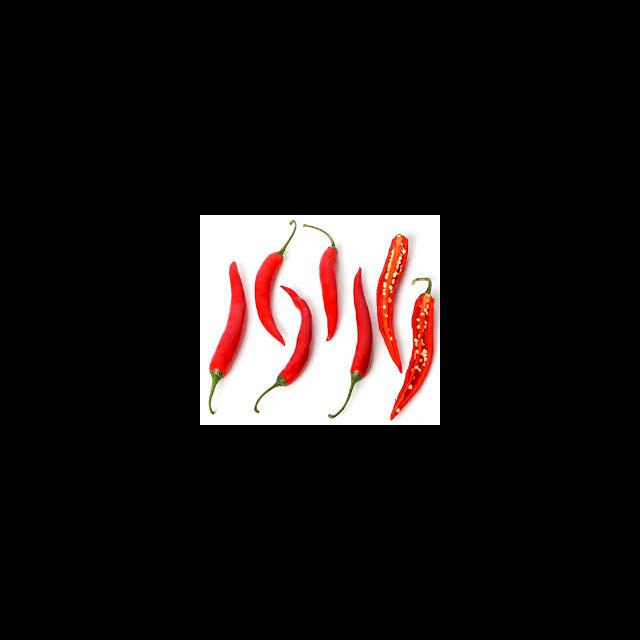chili_pepper: (256, 285, 314, 415), (389, 289, 436, 420), (208, 261, 248, 376), (257, 255, 287, 348), (319, 225, 341, 341), (353, 272, 371, 380)
